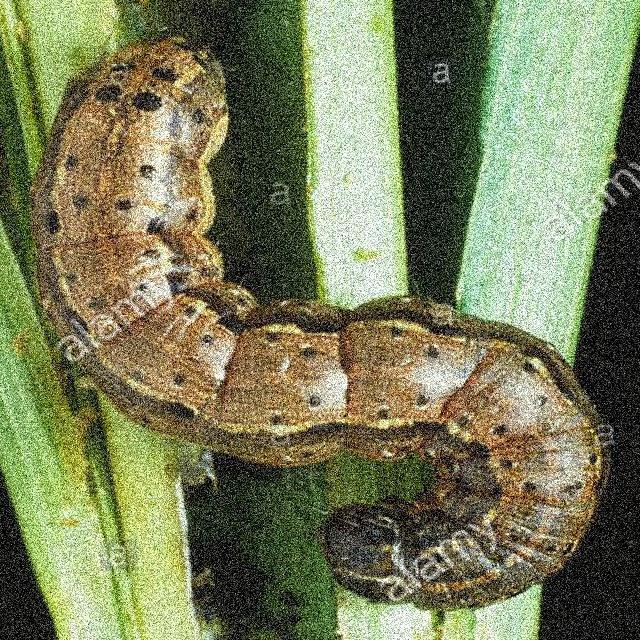worm: (27, 32, 615, 615)
